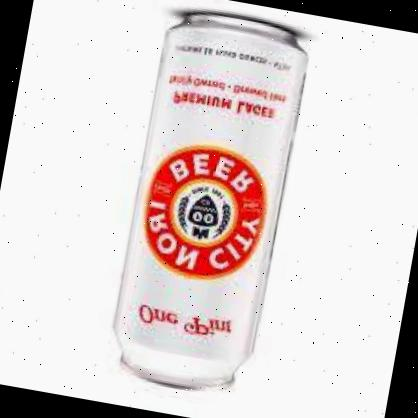can: (98, 0, 319, 406)
